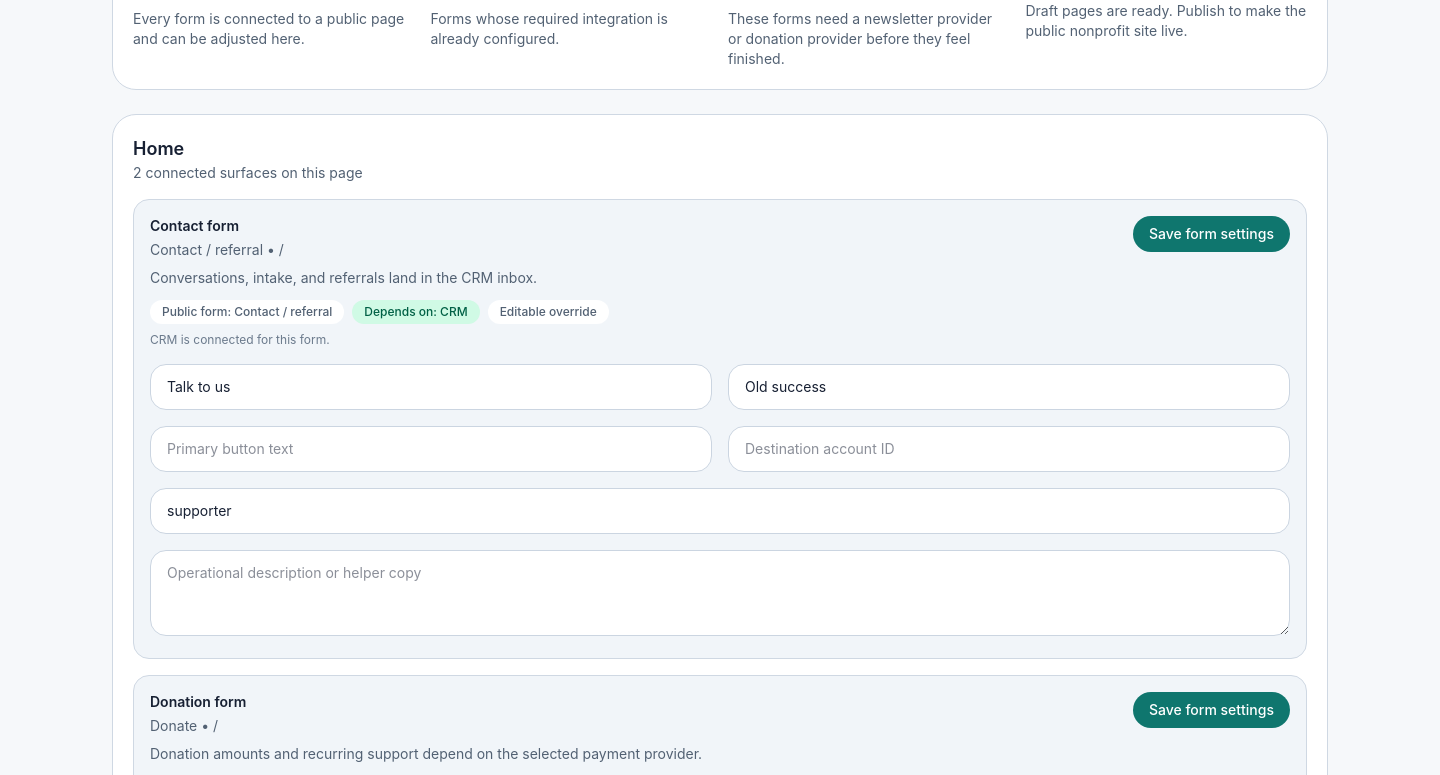
Test: WebsiteFormsPage › loads connected forms and saves operational overrides
(page scrolled)
Expected: the text "Public form: Contact / referral" is shown, [150,300,344,324]
Expected: the text "Contact form" is shown, [150,217,239,234]
Replace the text in the 2nd field named "success message for contact form" with "Thanks for reaching out.": (1009, 387) [728,364,1290,410]
(page scrolled)
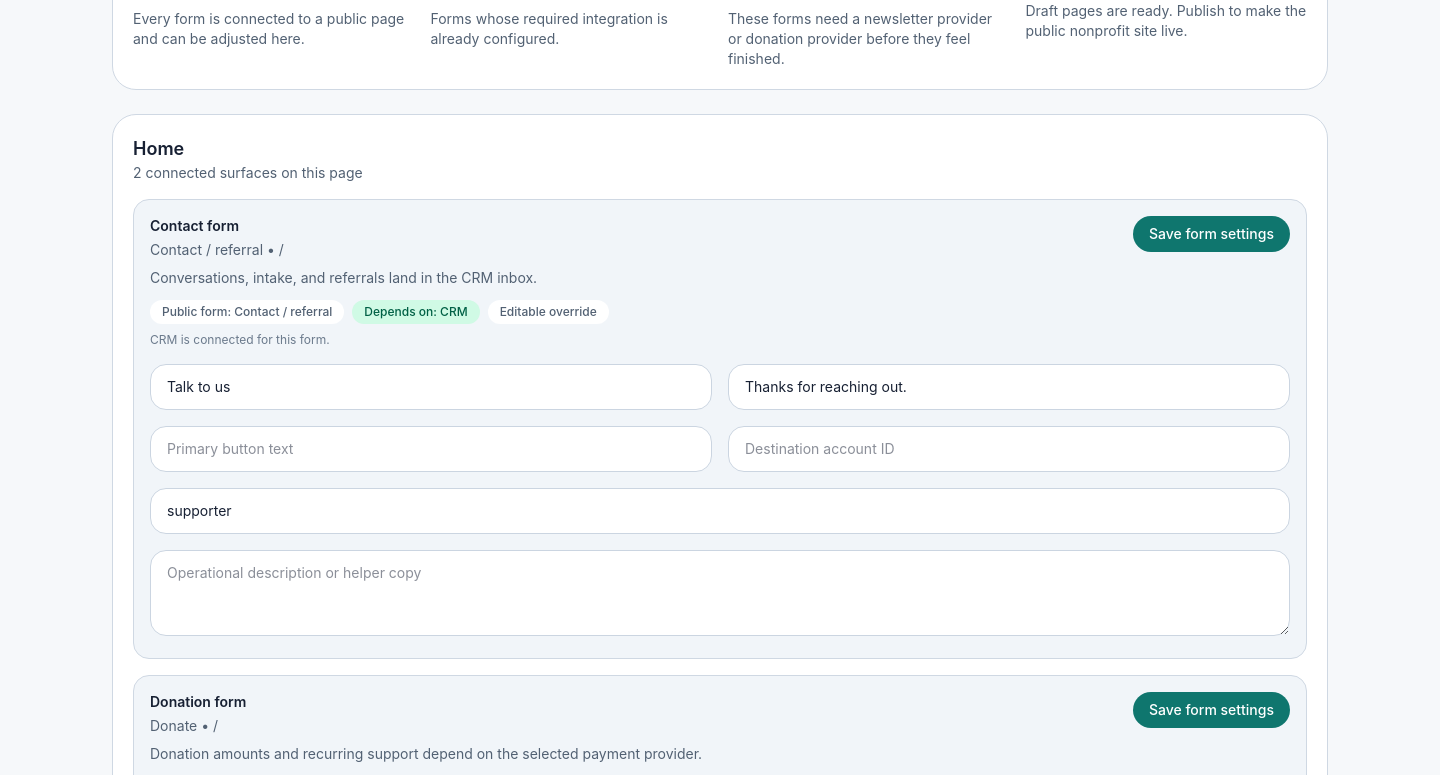
Click the 1st button "Save form settings": (1211, 234) [1133,216,1290,252]
(page scrolled)
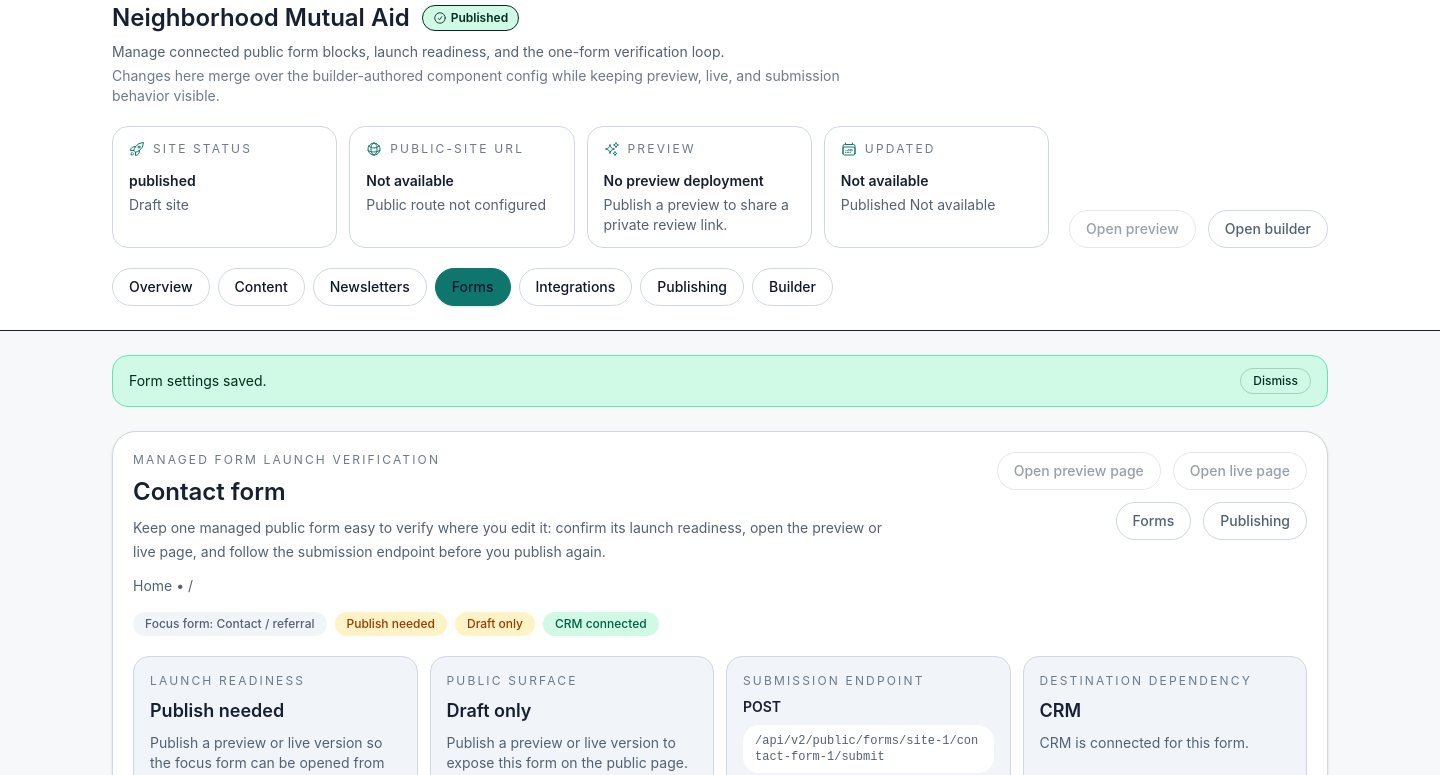
Expected: the text "Form settings saved." is shown, [129,372,266,389]
